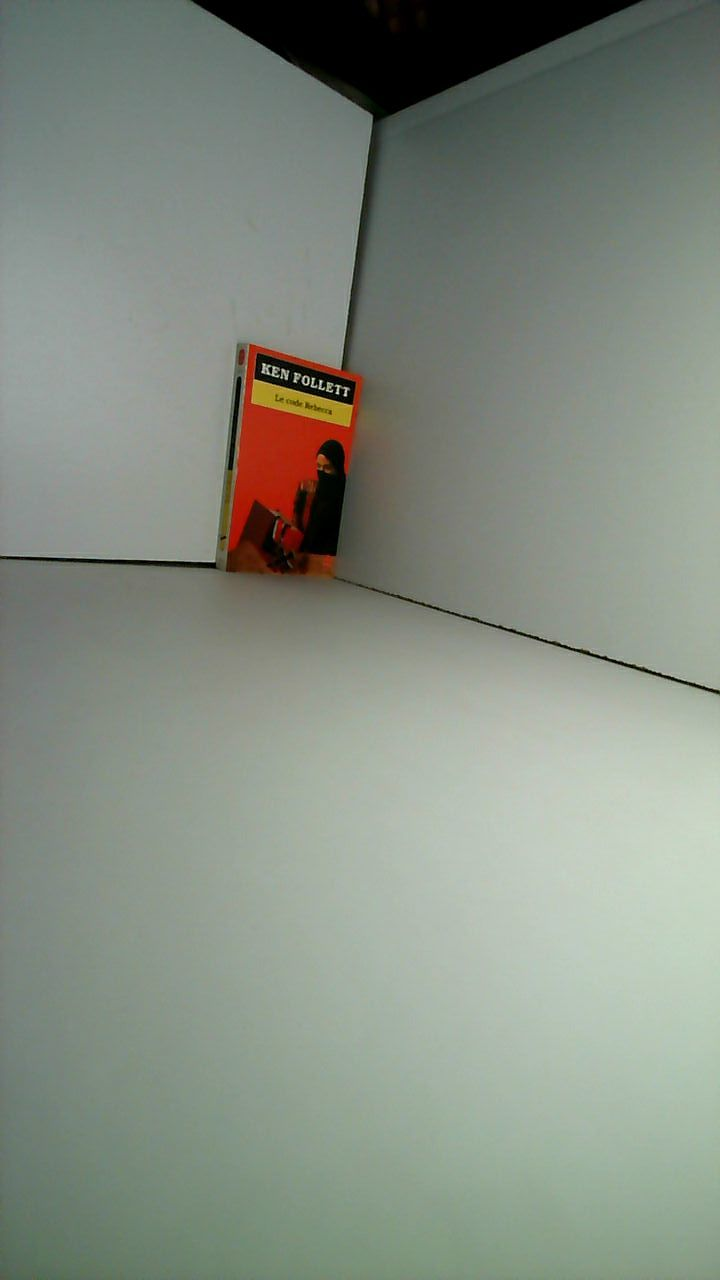book: (208, 330, 373, 591)
